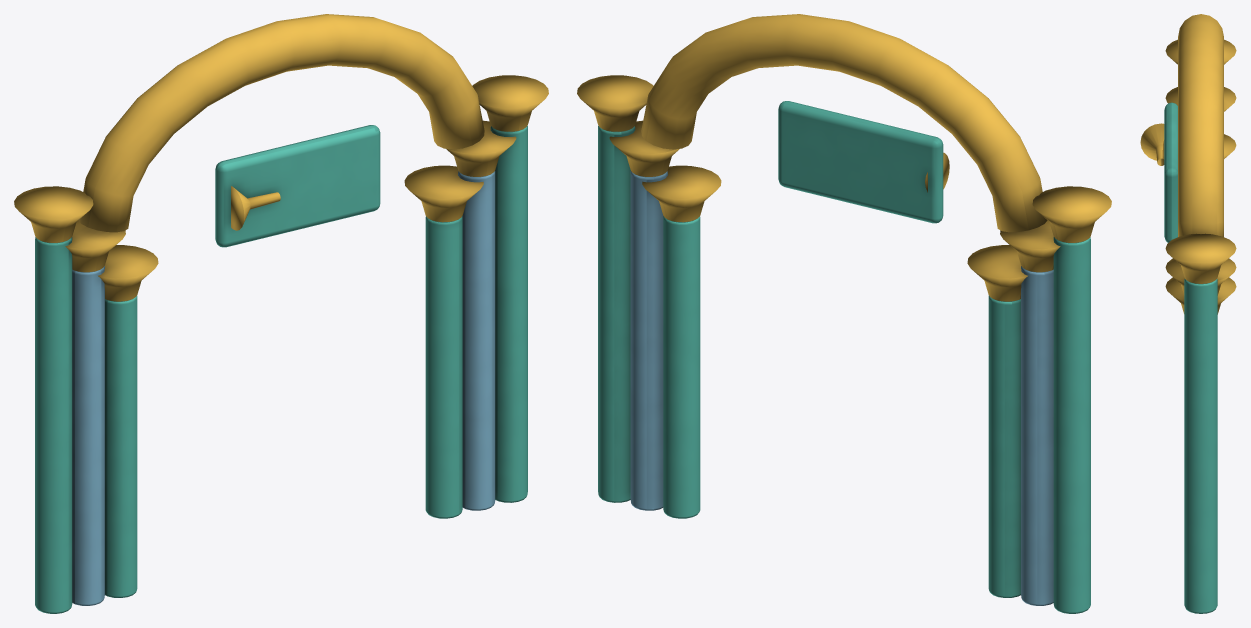
The model's file is GateWind.fbx.
The picture shows the model from 3 angles, left to right: view 1: azimuth 30°, elevation 25°; view 2: azimuth 150°, elevation 25°; view 3: azimuth 270°, elevation 25°; orthographic projection. The views are drawn at different scales.
Visible parts, largest first — view 1: GateWind_Body; view 2: GateWind_Body; view 3: GateWind_Body.
Boxes of the visible parts, x1,y1,x2,y2 form: GateWind_Body: (14, 14, 548, 613); GateWind_Body: (577, 14, 1111, 613); GateWind_Body: (1140, 14, 1236, 613).
Size of the model in its own units: 5.16 by 4.97 by 0.92.
